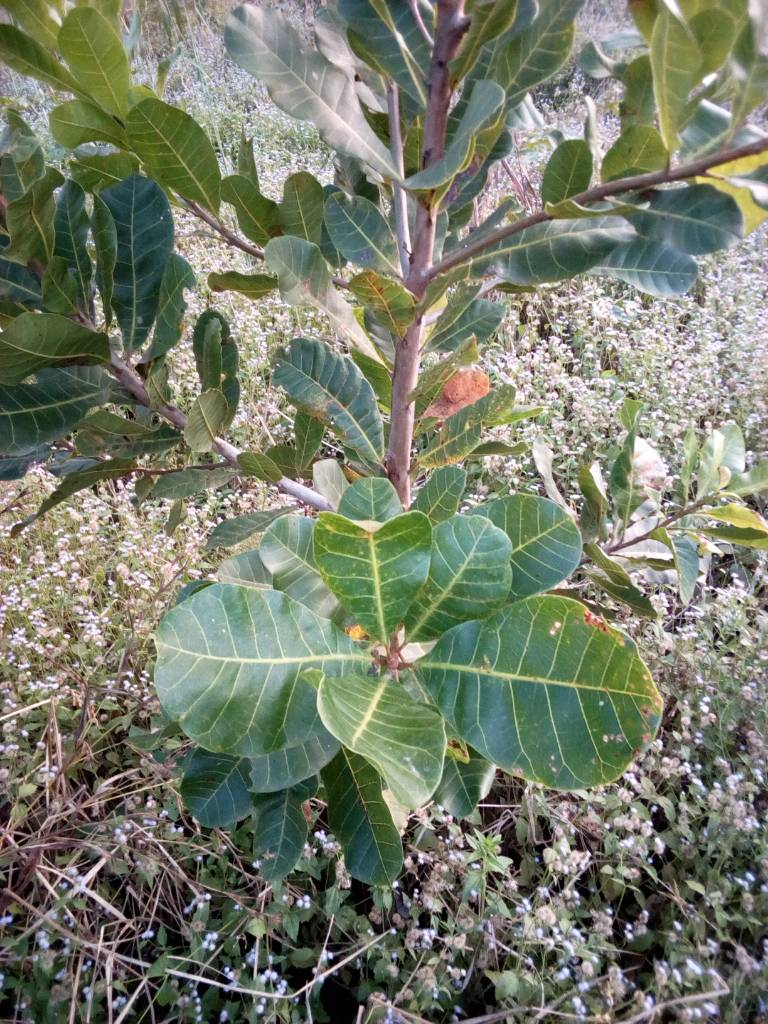Pestalotiose: (479, 600, 665, 775), (311, 513, 432, 624), (347, 267, 421, 339)
